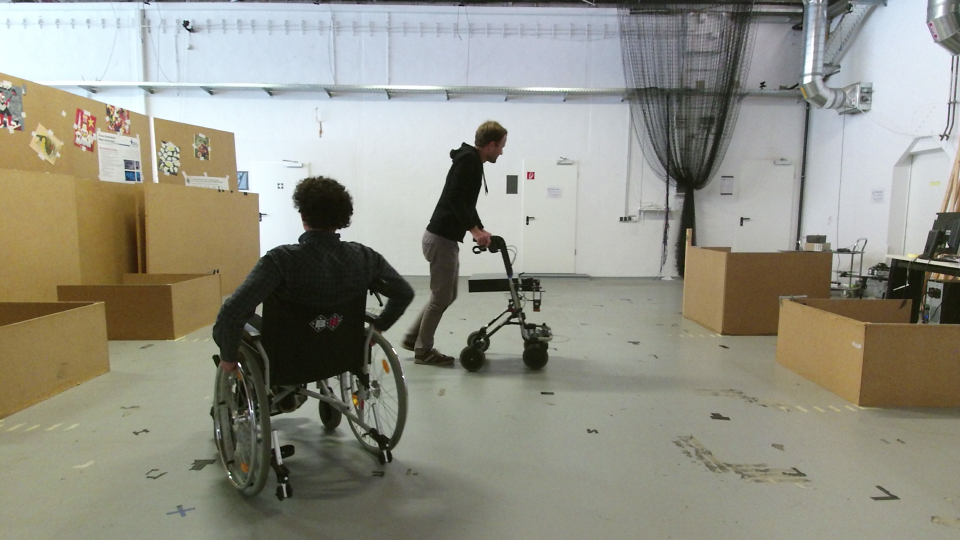wheelchair: (199, 160, 433, 512)
